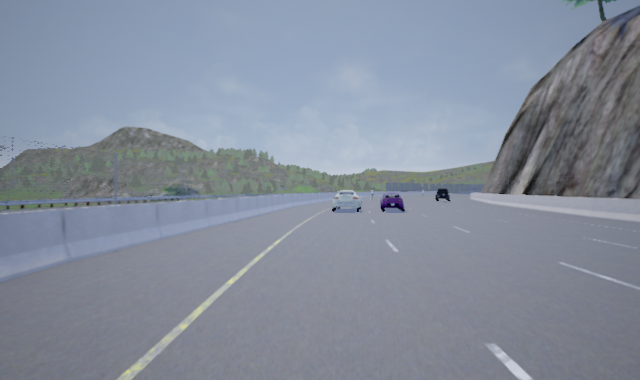vehicle: (330, 189, 362, 213), (379, 192, 405, 212), (434, 187, 451, 202)
